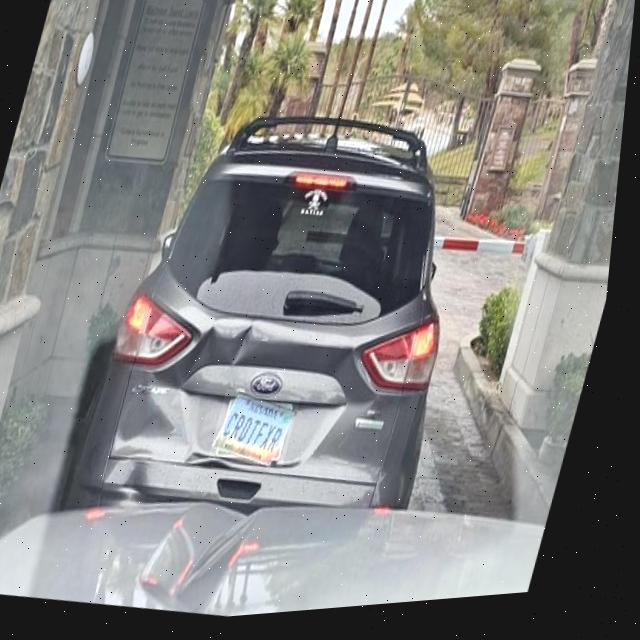LicensePlate: (220, 396, 305, 471)
